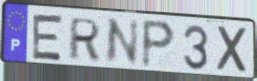3: (181, 23, 211, 72)
E: (29, 12, 65, 63)
N: (103, 17, 141, 67)
P: (140, 17, 177, 71)
R: (67, 16, 103, 62)
X: (216, 24, 251, 76)
